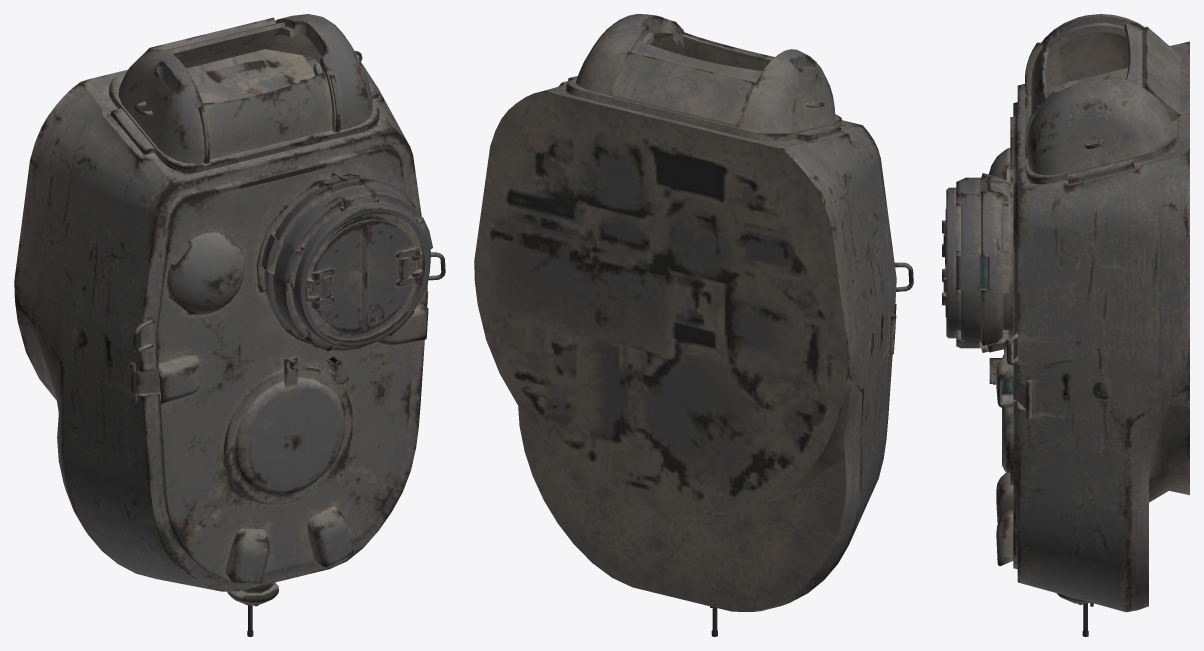
Rendered from Turret_01.glb.
3 renders of one model, left to right at view 1: azimuth 30°, elevation 25°; view 2: azimuth 150°, elevation 25°; view 3: azimuth 270°, elevation 25°, orthographic. The views are drawn at different scales.
Parts seen in each view (by area): view 1: set_0_group_0; view 2: set_0_group_0; view 3: set_0_group_0.
Boxes of the visible parts, x1,y1,x2,y2 form: set_0_group_0: (14, 14, 445, 636); set_0_group_0: (474, 14, 913, 636); set_0_group_0: (942, 14, 1189, 636).
Bounding box in the file's own units: 1.96 × 3.02 × 1.16.
1 material, 1 textured.
